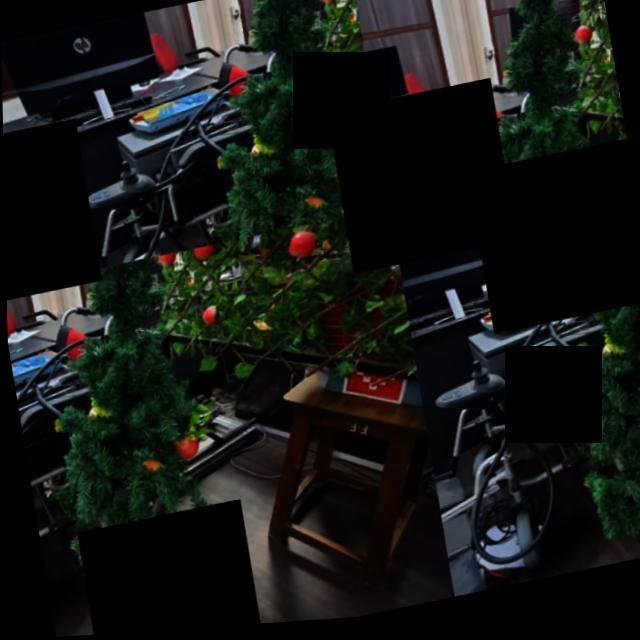Tree: (6, 240, 298, 640), (108, 1, 387, 262), (510, 167, 640, 584), (404, 1, 631, 205)
